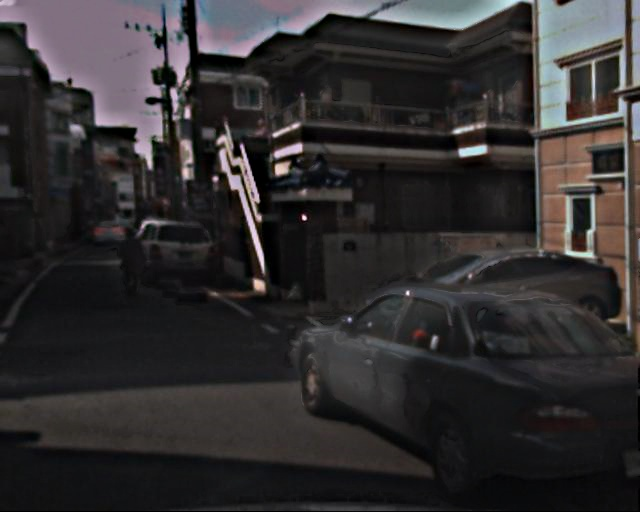person: (117, 226, 146, 297)
